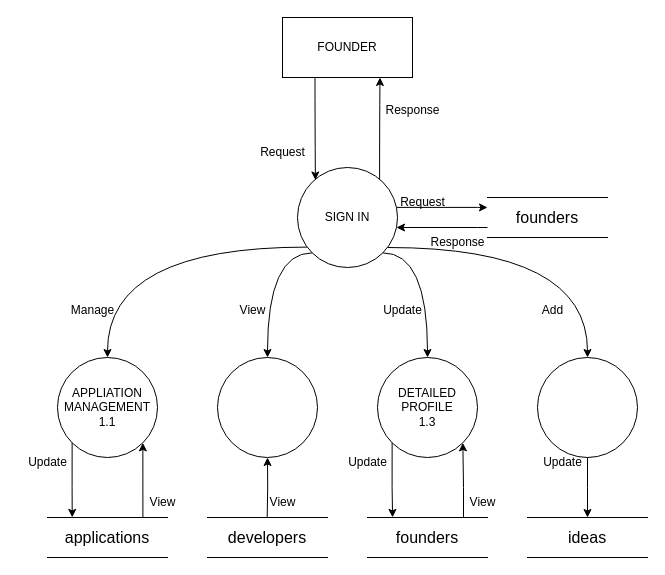
Image size: 665x575. Some labels were removed from this diagram. Each missing label, with the centre of its shape:
"CONTRIBUTE IDEAS 1.4" belongs at pixel 587 407.
"DEVELOPER REVIEW 1.2" belongs at pixel 267 407.
